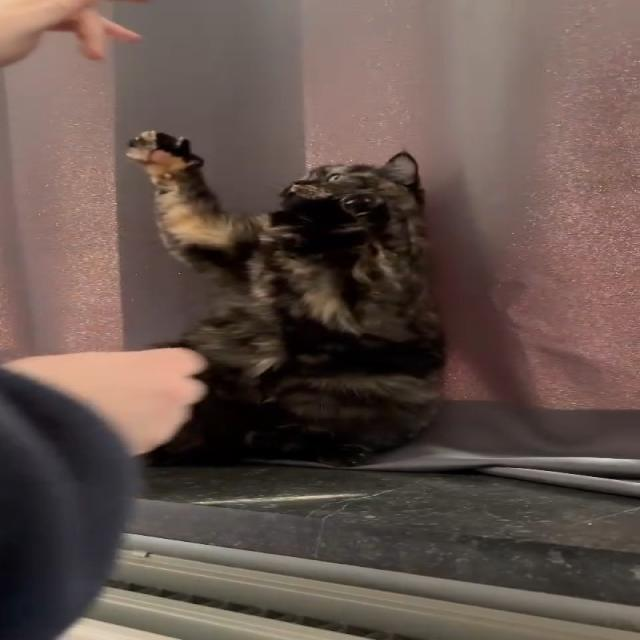authorized: (123, 129, 448, 468)
